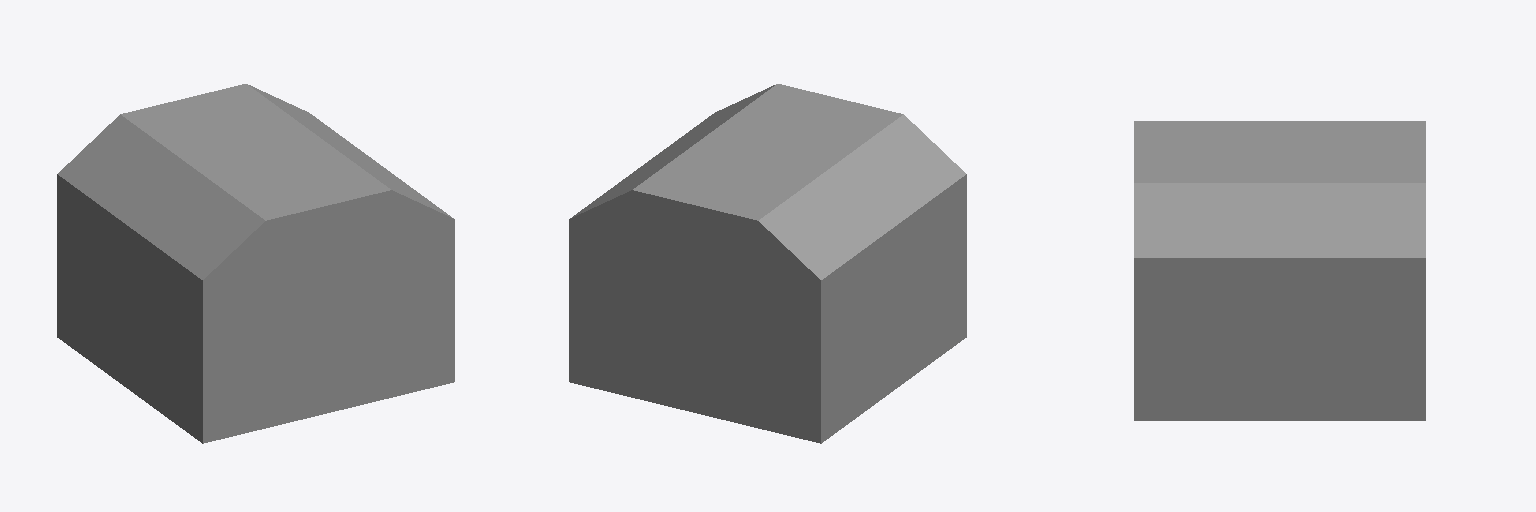
The model's file is ammo.obj.
3 renders of one model, left to right at view 1: azimuth 30°, elevation 25°; view 2: azimuth 150°, elevation 25°; view 3: azimuth 270°, elevation 25°, orthographic.
Visible parts, largest first — view 1: Cube; view 2: Cube; view 3: Cube.
Boxes of the visible parts, box(x1,y1,x2,y2) form: Cube: box(57, 84, 454, 443); Cube: box(569, 84, 966, 443); Cube: box(1134, 121, 1425, 420).
Size of the model in its own units: 1.6 by 1.26 by 1.6.